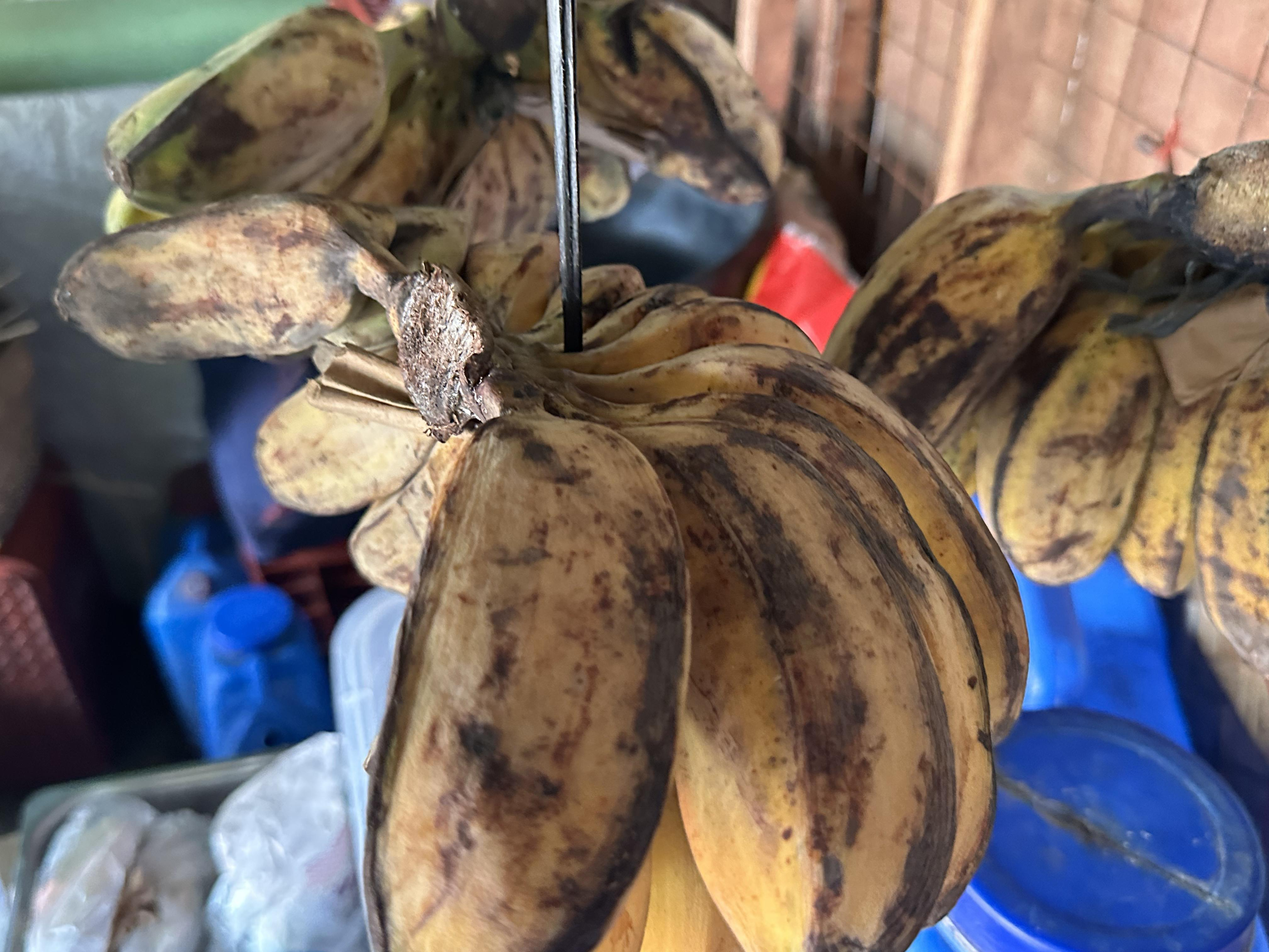ripe: (359, 268, 1030, 952), (825, 186, 1269, 680), (54, 194, 561, 362), (256, 381, 472, 596), (577, 0, 782, 206)
underripe: (105, 7, 434, 231)
